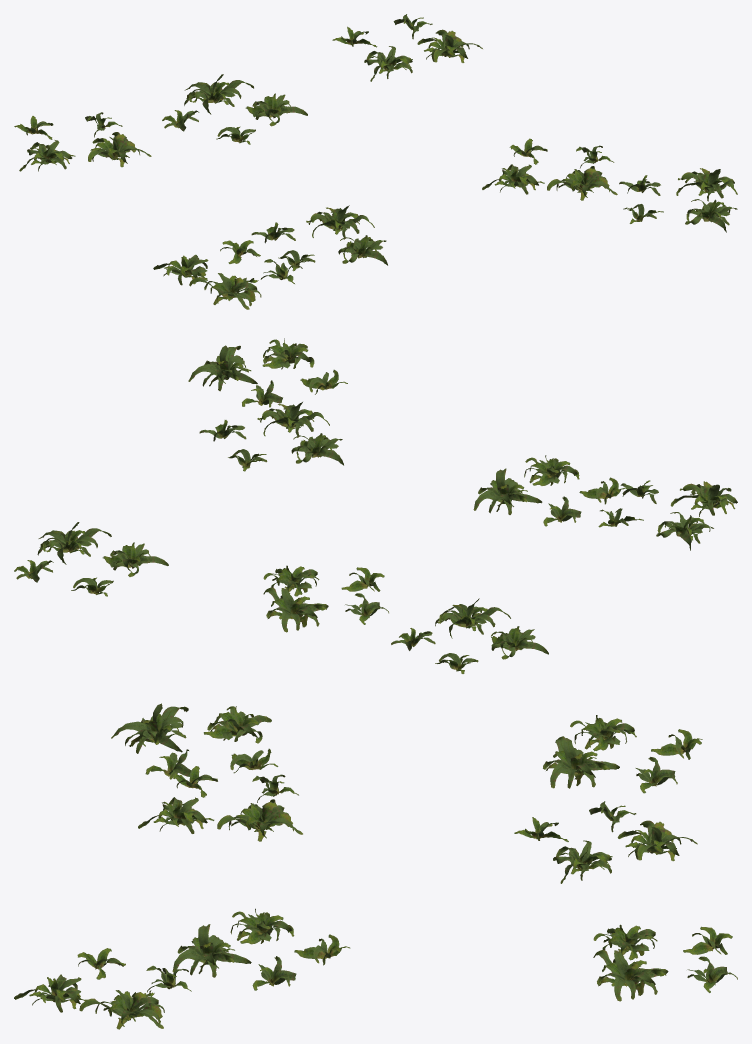
File: jungle_plants.glb
3 views of the same model, one above another, from view 1: azimuth 30°, elevation 25°; view 2: azimuth 150°, elevation 25°; view 3: azimuth 270°, elevation 25° (orthographic). The views are drawn at different scales.
Parts seen in each view (by area): view 1: jungle_plants; view 2: jungle_plants; view 3: jungle_plants.
Part boxes in pixels (x1,y1,x2,y2): jungle_plants: (14, 14, 737, 309); jungle_plants: (14, 338, 737, 673); jungle_plants: (14, 703, 737, 1029).
Bounding box in the file's own units: 14.04 × 0.6843 × 13.79.
7 materials, 7 textured.
